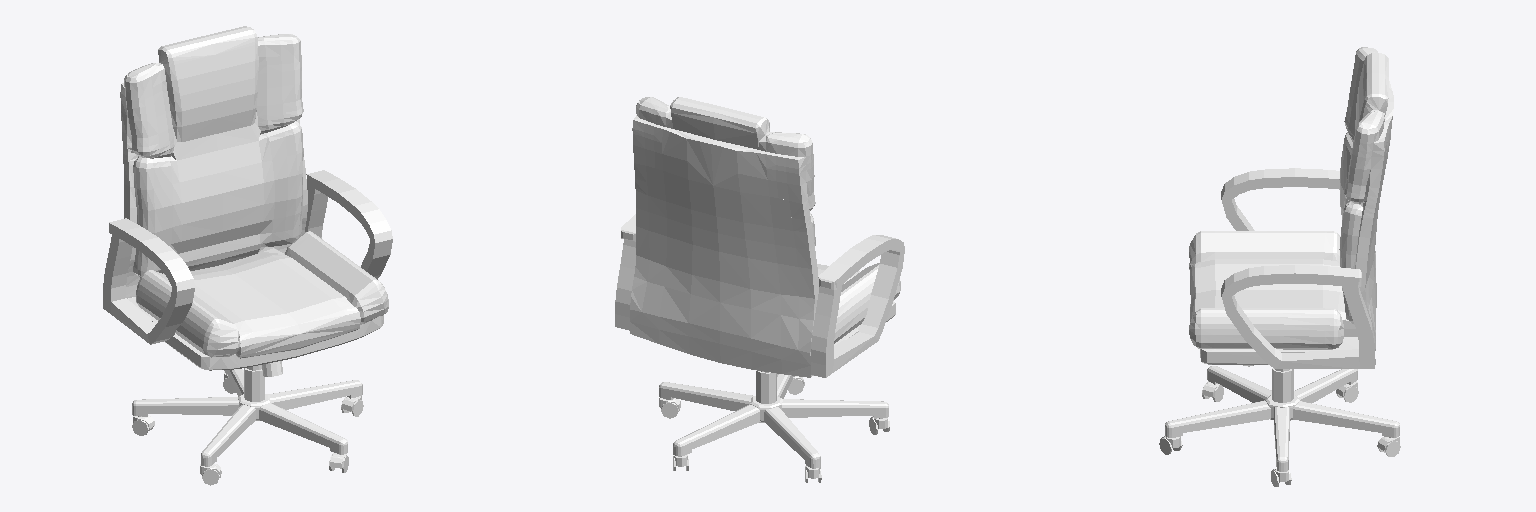
Rendered from silla.obj.
The picture shows the model from 3 angles: view 1: azimuth 30°, elevation 25°; view 2: azimuth 150°, elevation 25°; view 3: azimuth 270°, elevation 25°; orthographic projection.
Parts seen in each view (by area): view 1: ChairBack_LP_lambert1_0, ChairSeat_LP4_lambert1_0, pCube37_lambert1_0, pCube38_lambert1_0, Leg_LP2_lambert1_0, Leg_LP5_lambert1_0, Leg_LP4_lambert1_0, Leg_LP1_lambert1_0, Underside_LP_lambert1_0; view 2: ChairBack_LP_lambert1_0, pCube37_lambert1_0, ChairSeat_LP4_lambert1_0, Leg_LP1_lambert1_0, Leg_LP3_lambert1_0, pCube38_lambert1_0, Leg_LP4_lambert1_0, Leg_LP2_lambert1_0, Underside_LP_lambert1_0; view 3: ChairSeat_LP4_lambert1_0, ChairBack_LP_lambert1_0, pCube38_lambert1_0, pCube37_lambert1_0, Leg_LP3_lambert1_0, Leg_LP5_lambert1_0, Leg_LP1_lambert1_0, Leg_LP2_lambert1_0, Underside_LP_lambert1_0, Leg_LP4_lambert1_0.
Part boxes in pixels (x1,y1,x2,y2): ChairBack_LP_lambert1_0: (120,26,307,298); ChairSeat_LP4_lambert1_0: (128,231,388,370); pCube37_lambert1_0: (103,218,194,344); pCube38_lambert1_0: (305,170,392,279); Leg_LP2_lambert1_0: (132,397,238,416); Leg_LP5_lambert1_0: (259,403,347,454); Leg_LP4_lambert1_0: (268,380,362,409); Leg_LP1_lambert1_0: (201,404,255,466); Underside_LP_lambert1_0: (238,361,282,420); ChairBack_LP_lambert1_0: (630,97,818,377); pCube37_lambert1_0: (811,235,904,377); ChairSeat_LP4_lambert1_0: (817,263,900,345); Leg_LP1_lambert1_0: (782,399,888,418); Leg_LP3_lambert1_0: (673,404,760,456); pCube38_lambert1_0: (615,214,635,330); Leg_LP4_lambert1_0: (659,382,753,410); Leg_LP2_lambert1_0: (764,407,820,468); Underside_LP_lambert1_0: (750,370,782,422); ChairSeat_LP4_lambert1_0: (1189,231,1358,364); ChairBack_LP_lambert1_0: (1339,47,1393,364); pCube38_lambert1_0: (1221,265,1374,368); pCube37_lambert1_0: (1221,168,1339,230); Leg_LP3_lambert1_0: (1293,401,1399,437); Leg_LP5_lambert1_0: (1165,400,1270,437); Leg_LP1_lambert1_0: (1207,366,1271,402); Leg_LP2_lambert1_0: (1294,369,1357,402); Underside_LP_lambert1_0: (1243,365,1299,420); Leg_LP4_lambert1_0: (1274,407,1289,471).
Bounding box in the file's own units: 0.7162 × 1.16 × 0.6948.